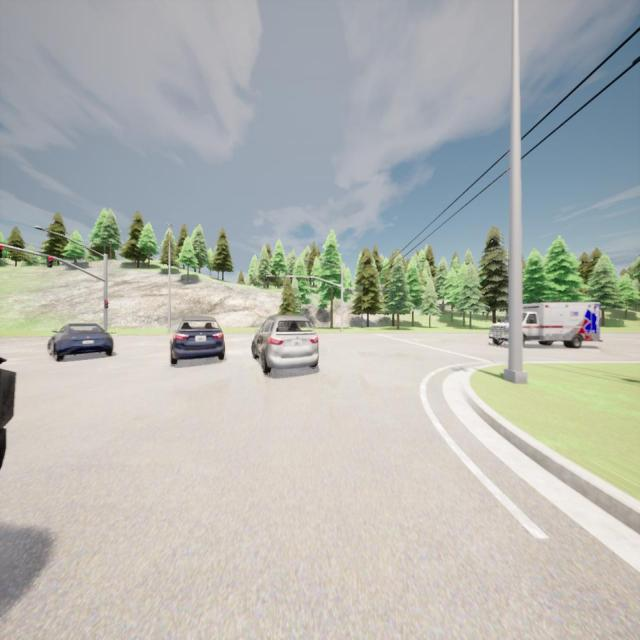Vehicle: (492, 301, 604, 349), (250, 312, 320, 373), (170, 315, 226, 364), (48, 322, 114, 362), (0, 353, 17, 479)
traffic_light: (47, 257, 53, 268), (289, 276, 293, 286), (0, 246, 3, 257), (105, 299, 108, 308), (309, 278, 312, 287)
